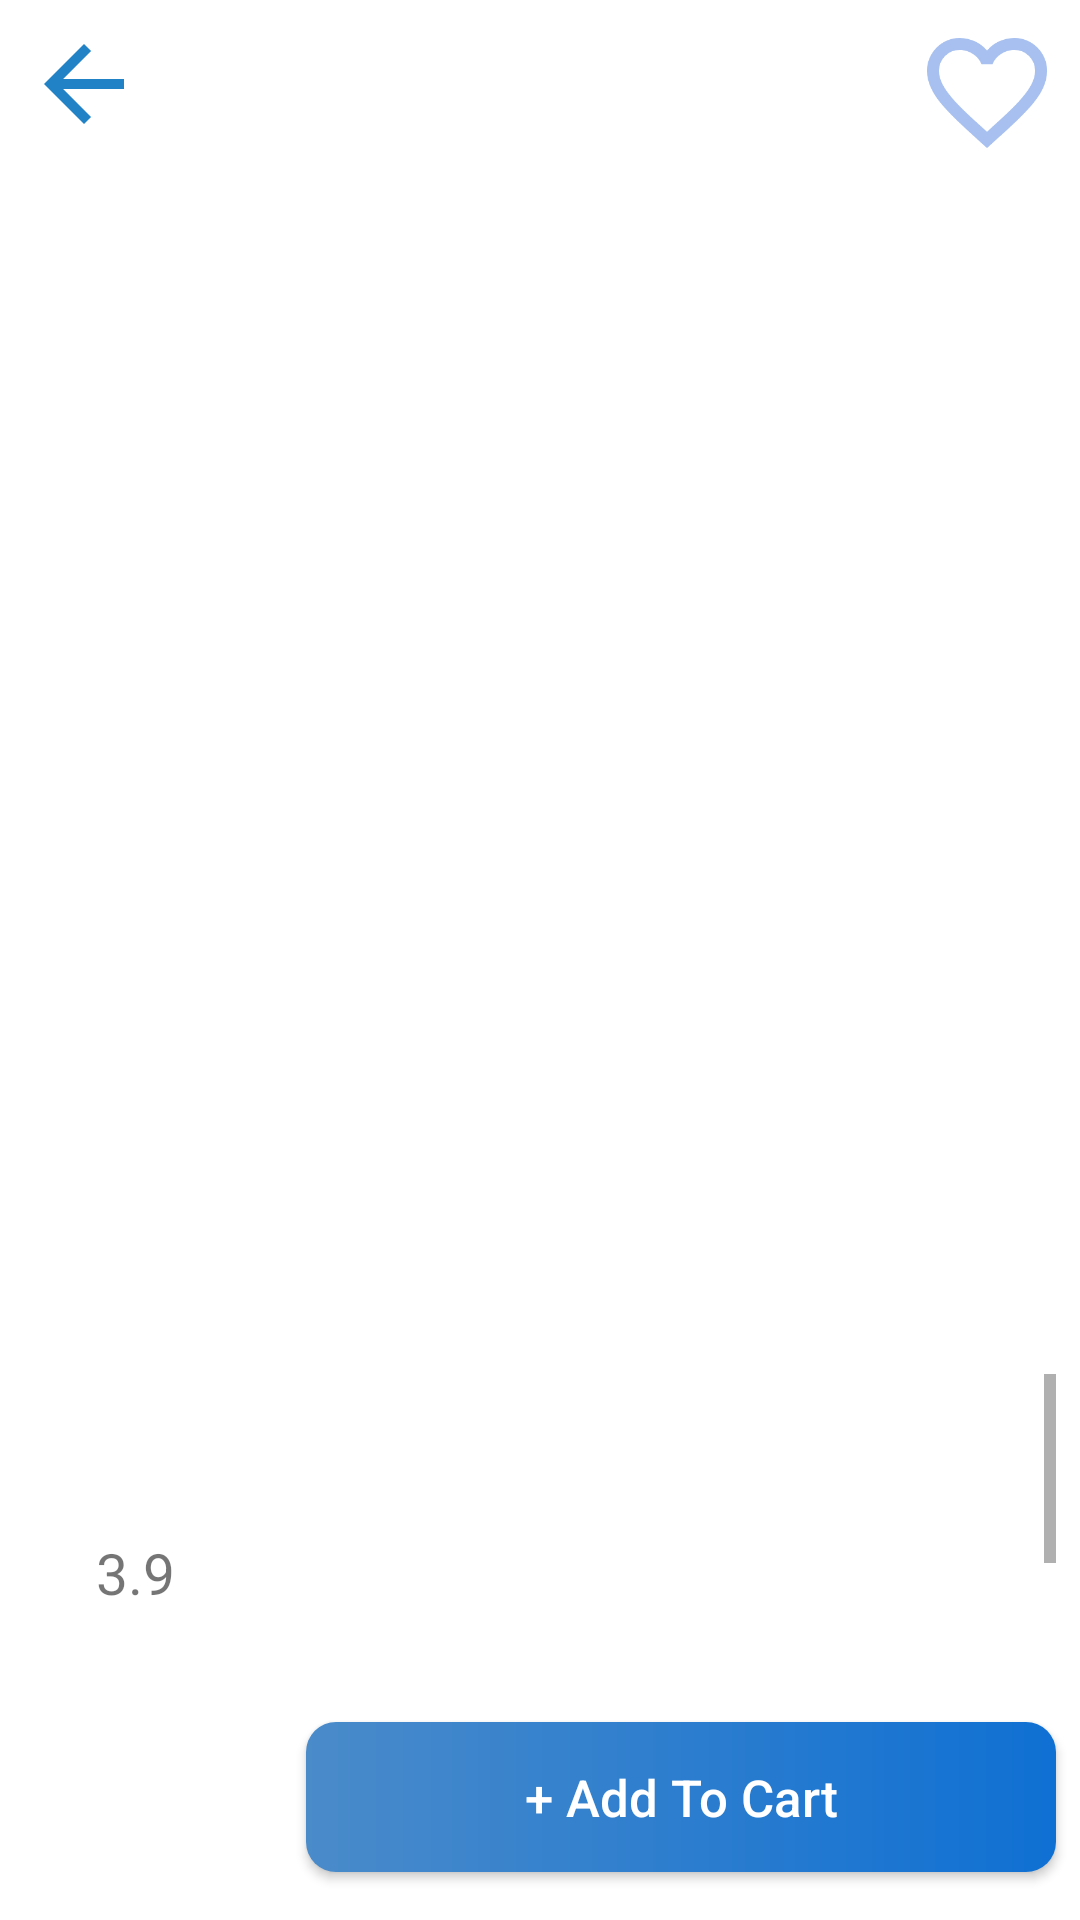

Where to tap for icons on this 1080px x 1920px app screen, as (x=x, y=y):
arrow back: (x=84, y=84)
unfavorite: (x=987, y=93)
